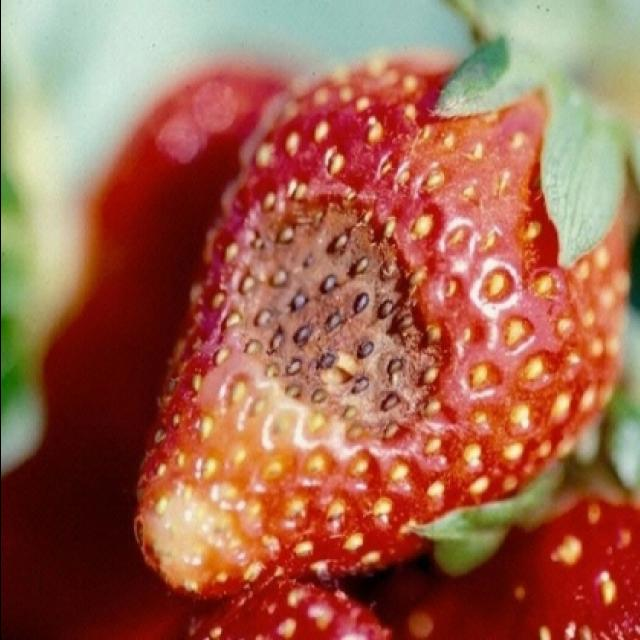Anthracnose Fruit Rot: (228, 172, 458, 458)
